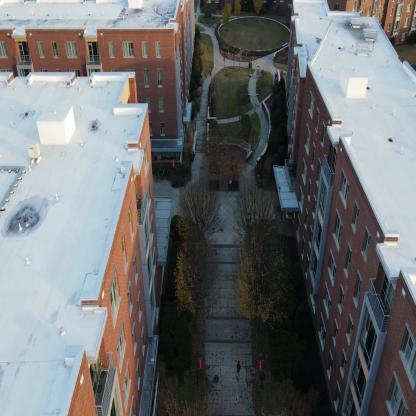Wolf Ridge: (0, 0, 204, 404), (274, 0, 415, 415)
